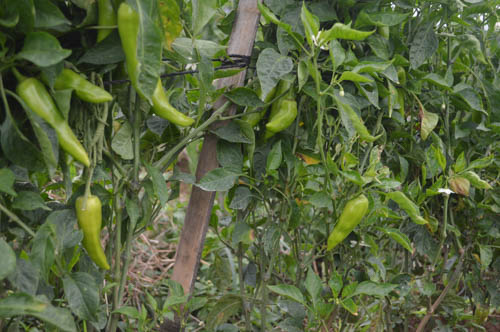ChiliPepper: (119, 6, 194, 128), (16, 81, 86, 165), (75, 199, 111, 265), (327, 196, 368, 253), (54, 69, 112, 103), (242, 77, 269, 131), (268, 98, 300, 140)
